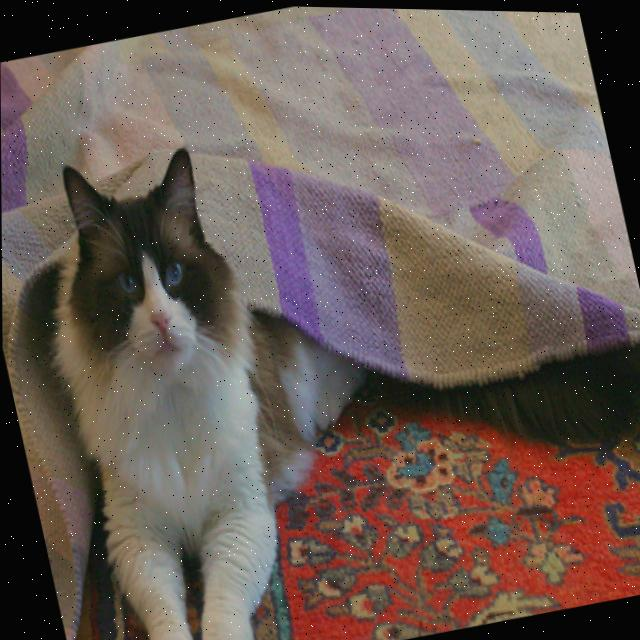Ragdoll: (9, 97, 418, 640)
